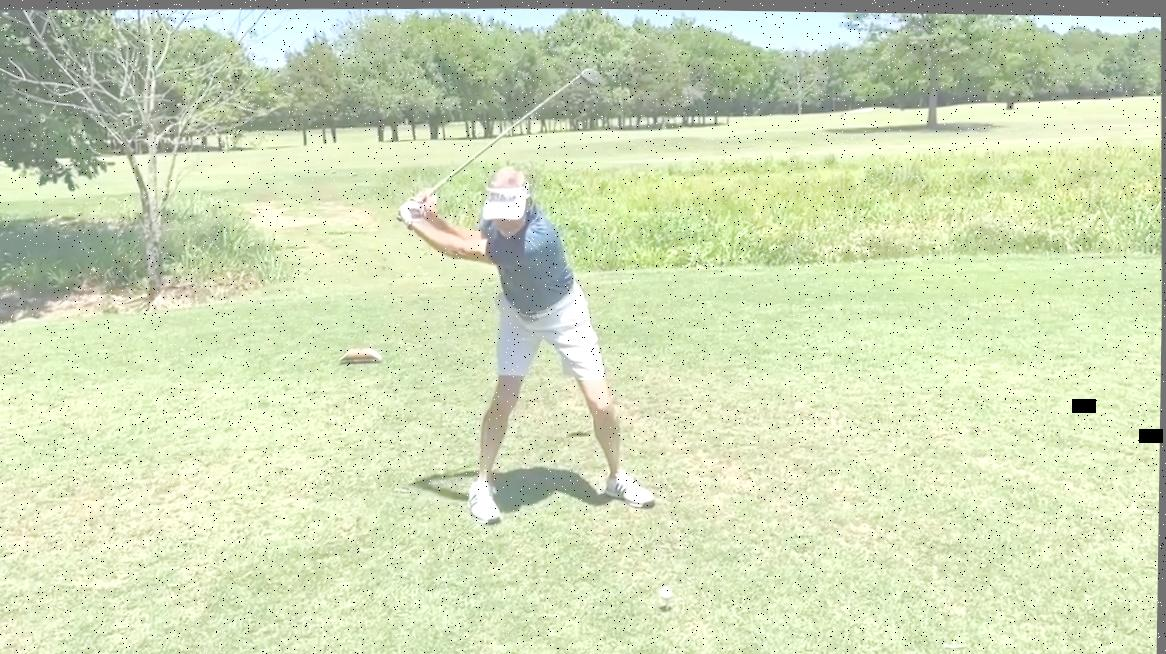ClubHead: (573, 65, 603, 90)
GolfBall: (658, 582, 676, 599)
